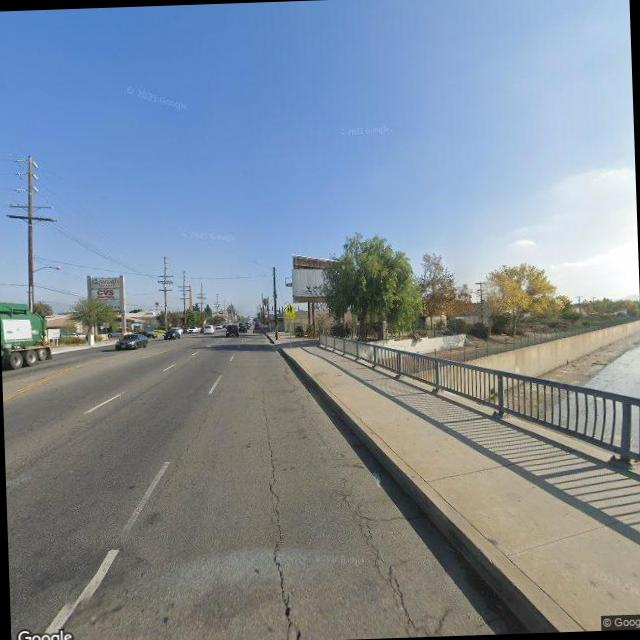crack: (331, 470, 451, 638), (332, 468, 450, 638), (249, 399, 306, 640)
